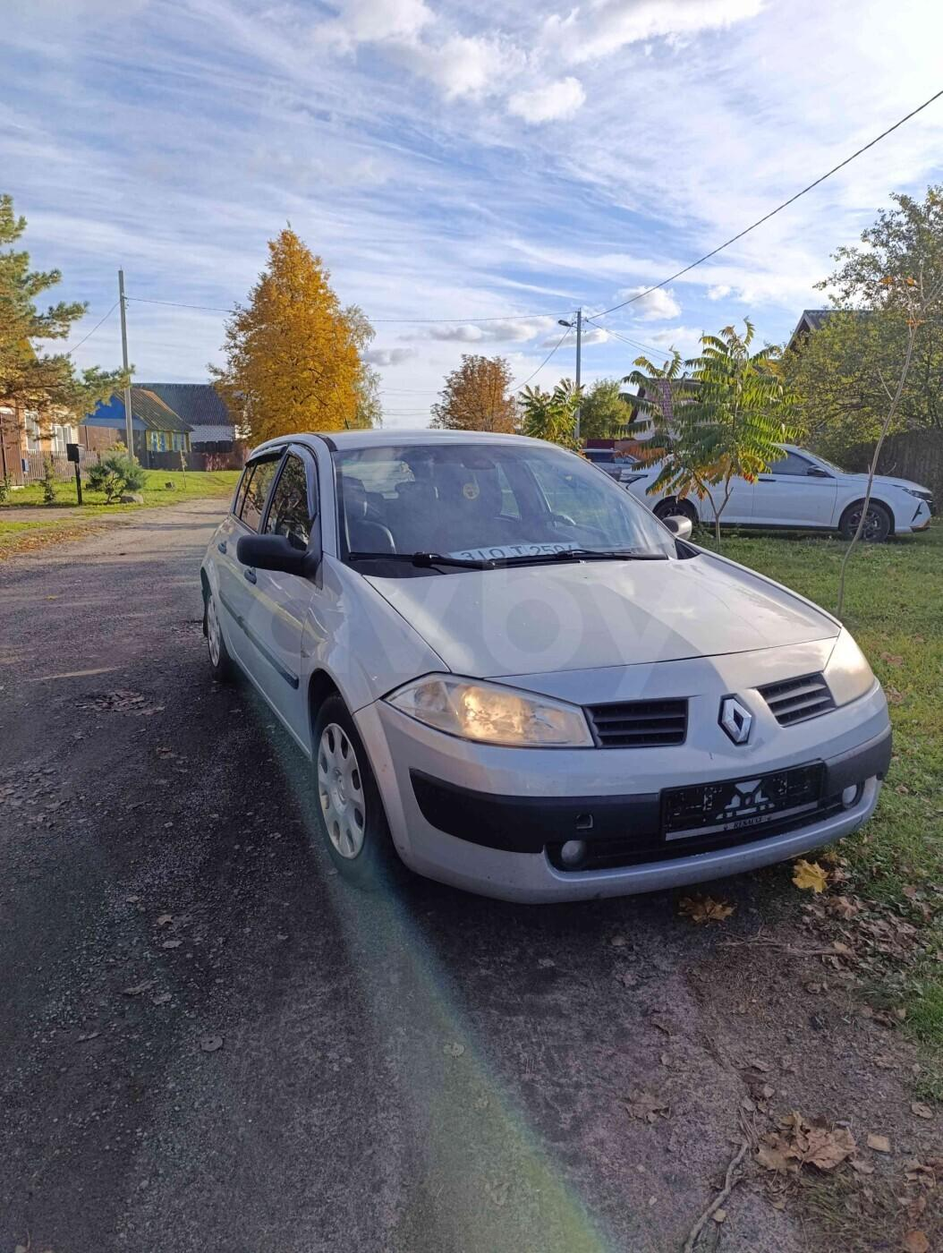Megane_2002-2006: (200, 430, 904, 909)
